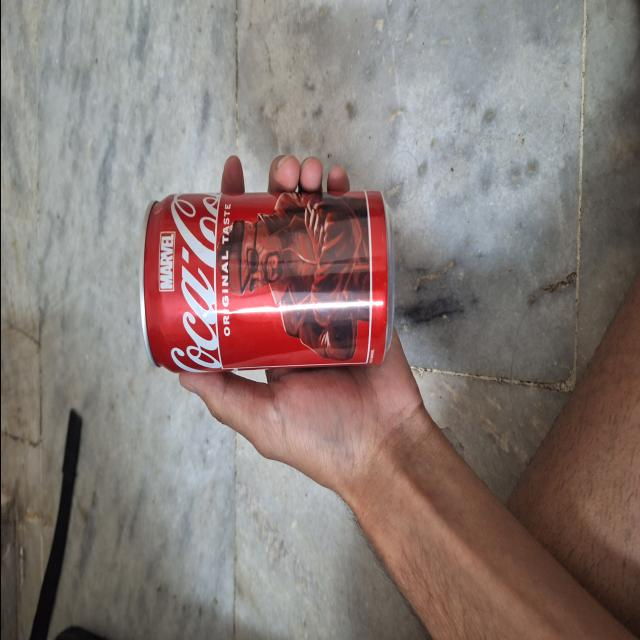Coca Cola - Marvel: (136, 180, 394, 379)
